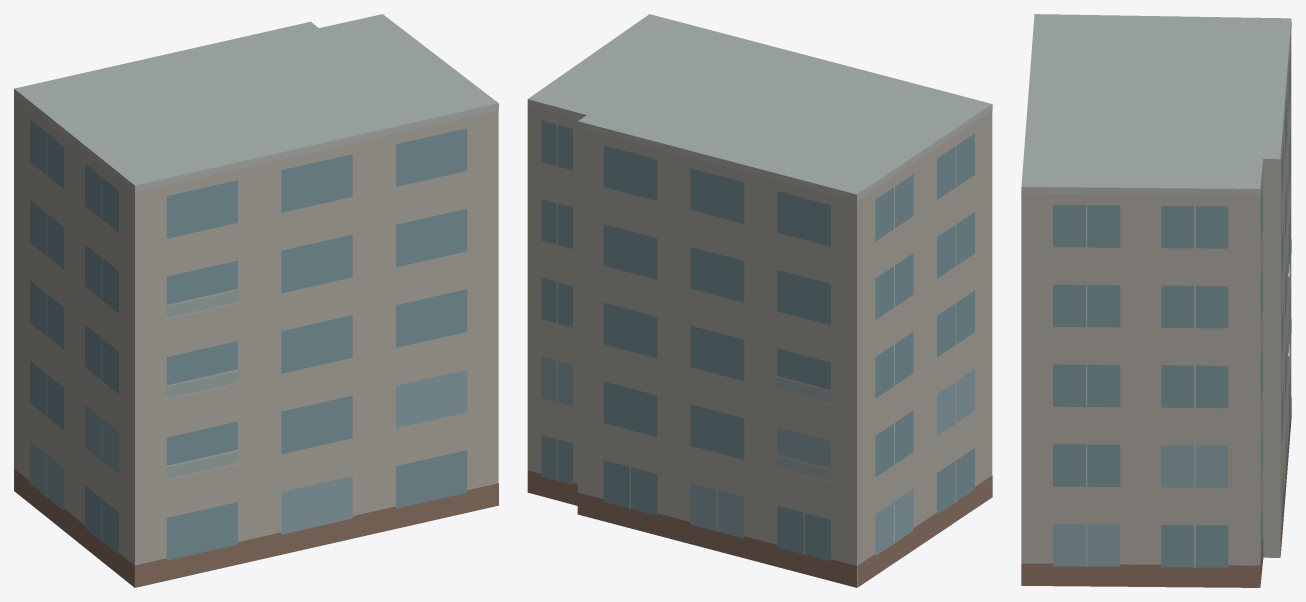
Rendered from survey-upis-32966136.glb.
The picture shows the model from 3 angles, left to right: view 1: azimuth 30°, elevation 25°; view 2: azimuth 150°, elevation 25°; view 3: azimuth 270°, elevation 25°; orthographic projection. The views are drawn at different scales.
Visible parts, largest first — view 1: survey-upis-32966136.tmp; view 2: survey-upis-32966136.tmp; view 3: survey-upis-32966136.tmp.
Boxes of the visible parts, x1,y1,x2,y2 form: survey-upis-32966136.tmp: (14, 14, 498, 587); survey-upis-32966136.tmp: (527, 14, 992, 587); survey-upis-32966136.tmp: (1021, 14, 1291, 587).
Size of the model in its own units: 12.99 by 13.8 by 8.48.
